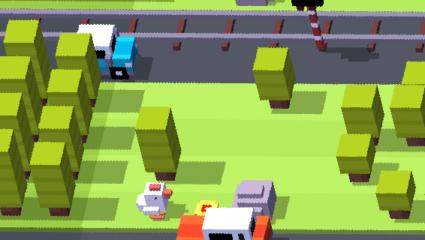hen: (136, 183, 172, 220)
obstacle: (134, 105, 182, 181), (4, 20, 50, 98), (57, 33, 105, 103), (30, 142, 75, 216), (0, 57, 42, 135), (46, 69, 94, 137), (78, 24, 137, 78), (39, 106, 83, 177), (340, 84, 386, 144), (254, 48, 295, 111), (0, 93, 34, 167), (0, 127, 28, 216), (203, 208, 272, 240), (392, 85, 424, 148), (233, 180, 278, 219), (337, 134, 373, 182), (375, 172, 410, 220), (176, 215, 205, 240), (403, 62, 425, 85)
